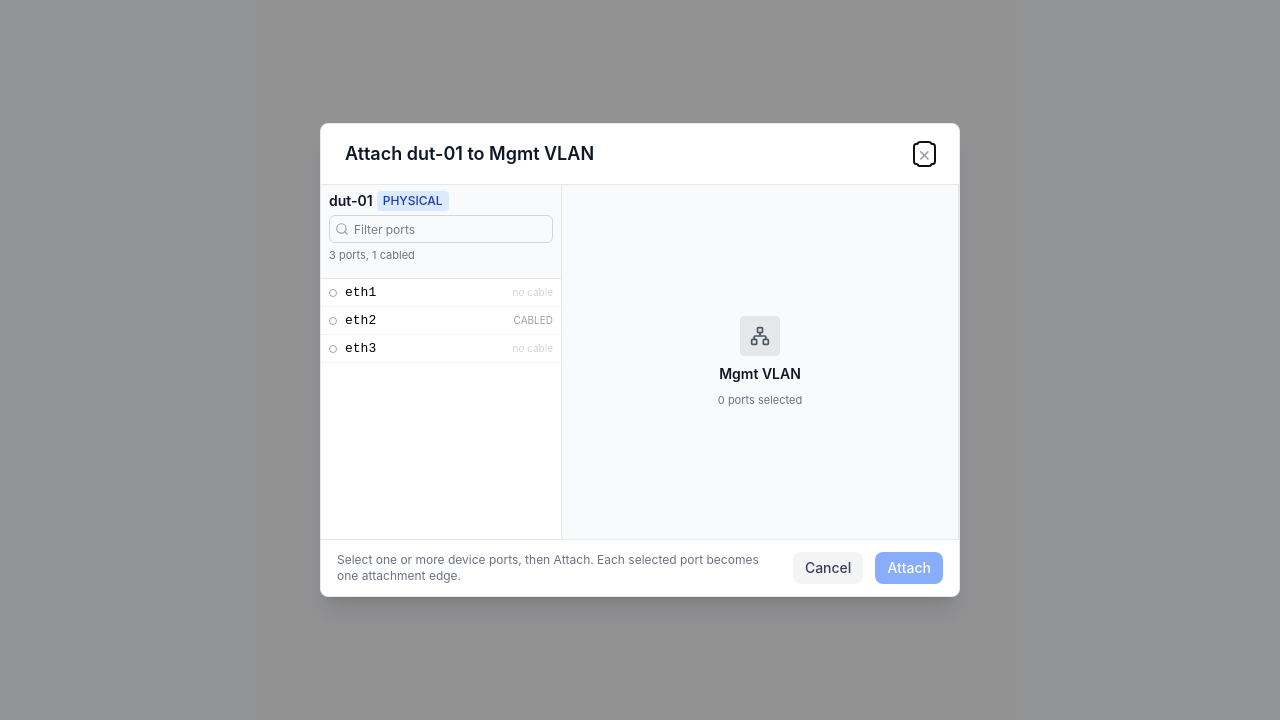
Test case: ElementAttachDialog › filters the device's ports via the search box (shared filterPorts)
Step 1. Type "eth2" into the field named "Filter source ports" → (441, 229), box [329,215,553,243]
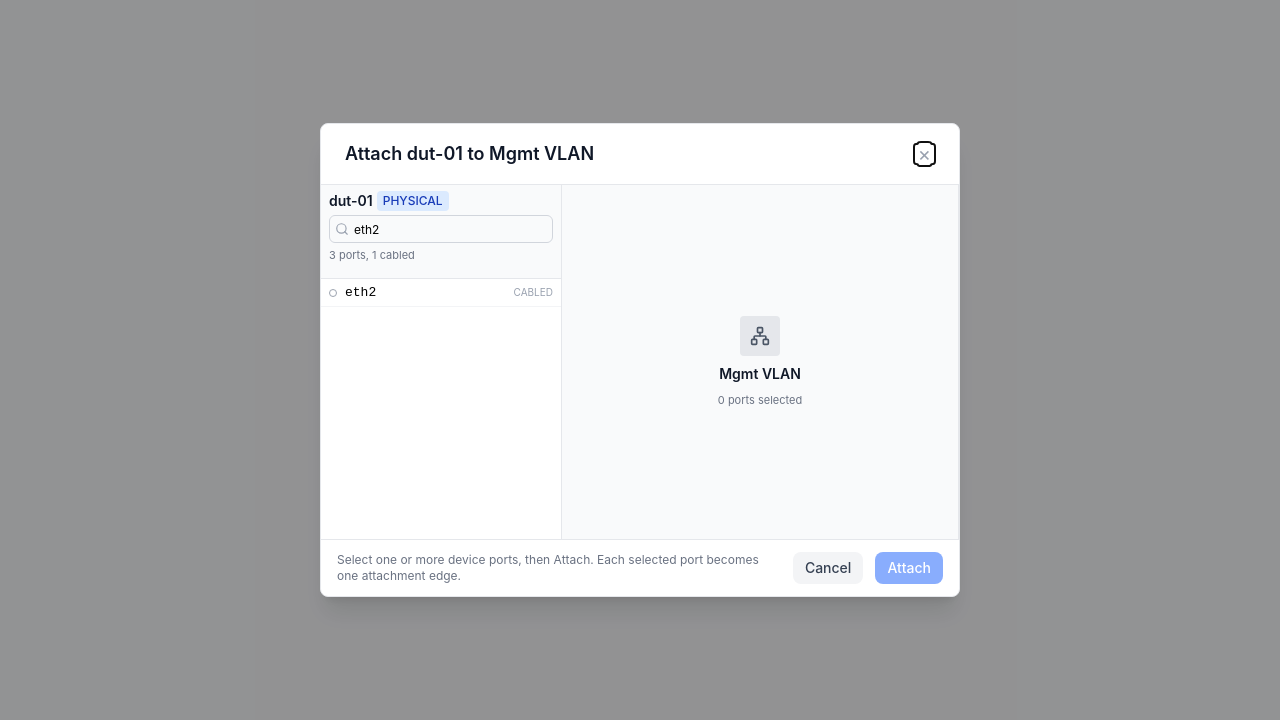
Expected: the text "eth2" is shown, [345,285,376,300]
Result: the button "eth1" is gone
